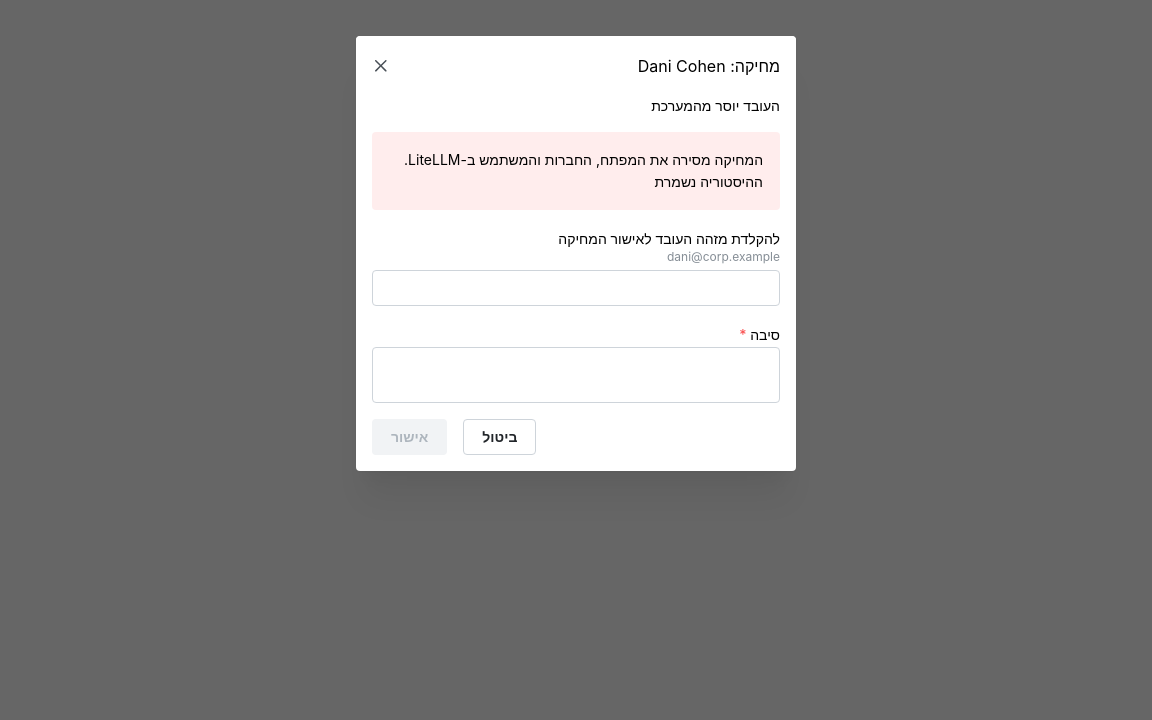
MemberActionDialog › delete confirm disabled until exact upn
This screenshot has width=1152, height=720.
Type "סגירת משתמש" into the text box with test id "action-reason" at (576, 375), box [372,347,780,403]
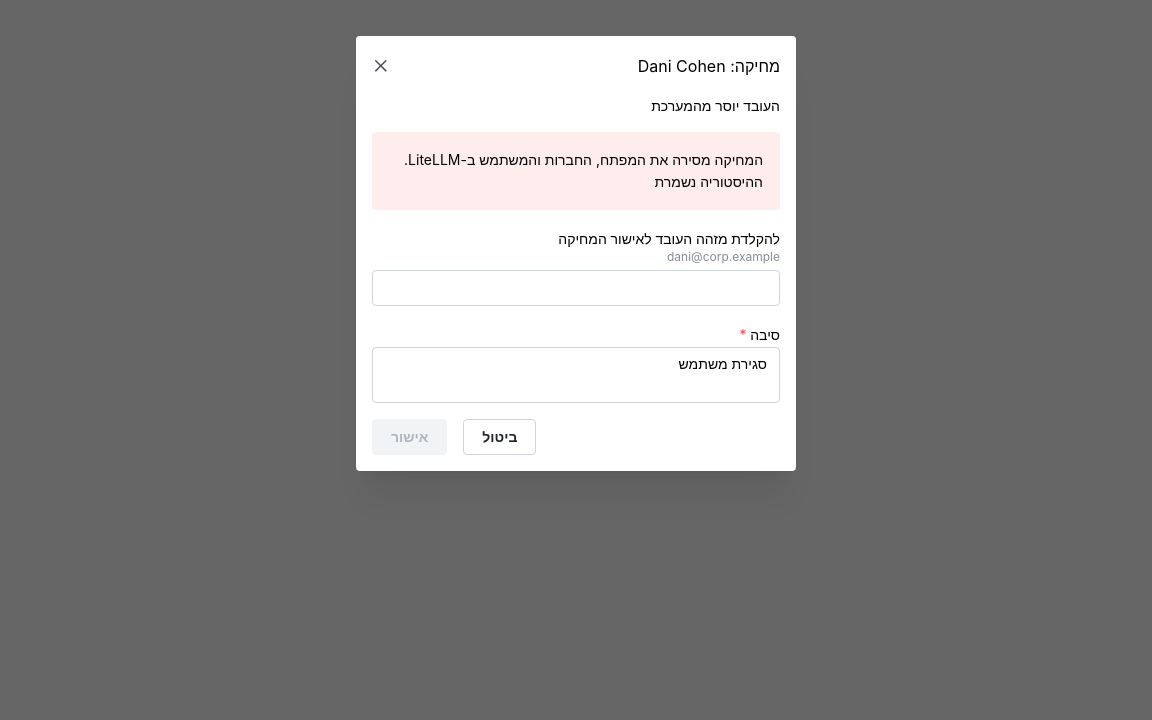
expect the button with test id "confirm-action" is disabled: met, box [372,419,447,455]
Type "dan@corp.example" into the field with test id "confirm-upn" at (576, 288), box [372,270,780,306]
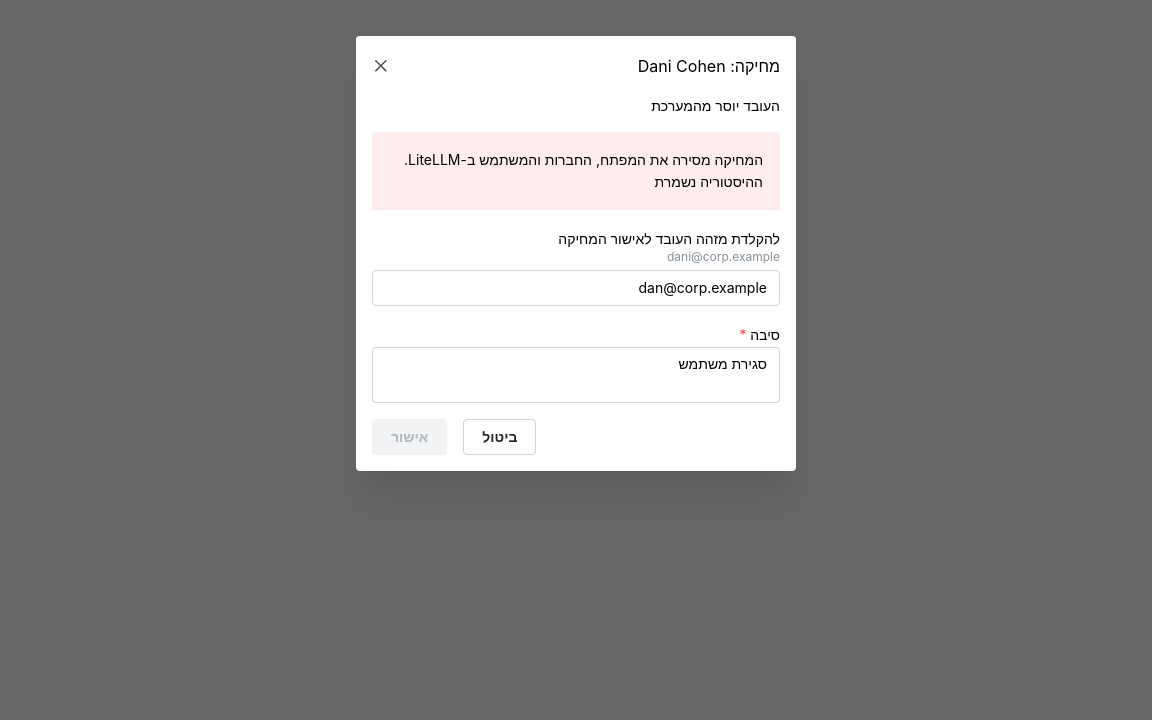
expect the button with test id "confirm-action" is disabled: met, box [372,419,447,455]
Replace the text in the field with test id "confirm-upn" with "DANI@corp.example" at (576, 288), box [372,270,780,306]
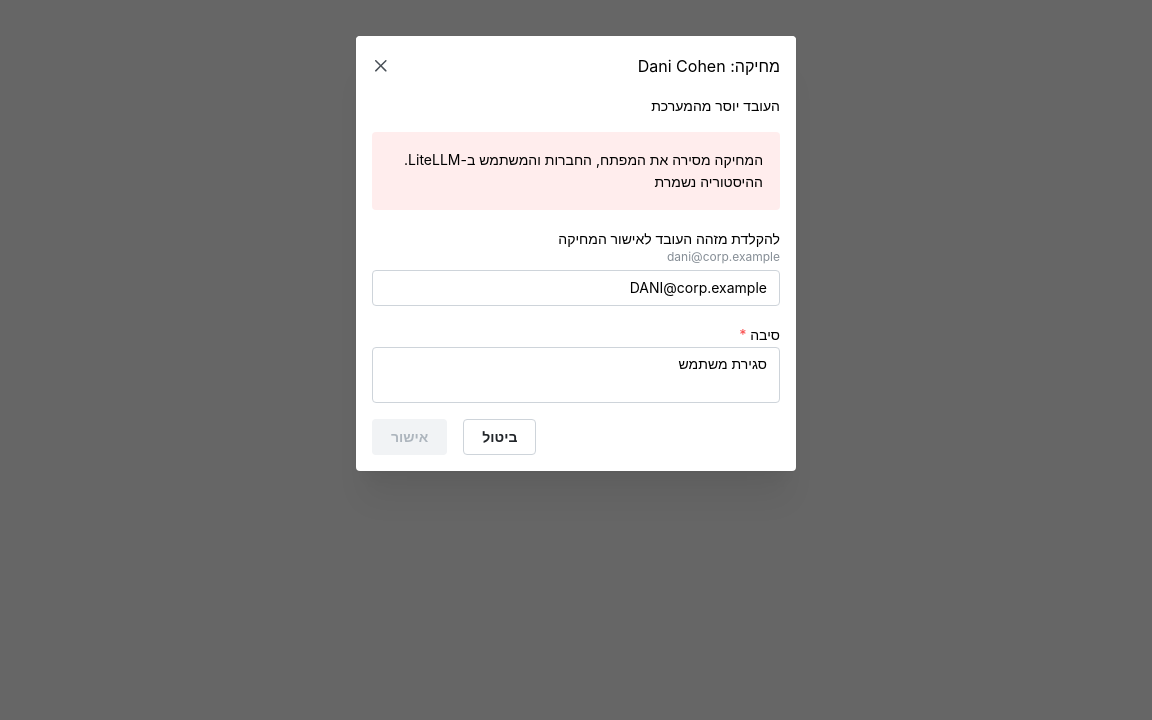
expect the button with test id "confirm-action" is disabled: met, box [372,419,447,455]
Replace the text in the field with test id "confirm-upn" with "dani@corp.example" at (576, 288), box [372,270,780,306]
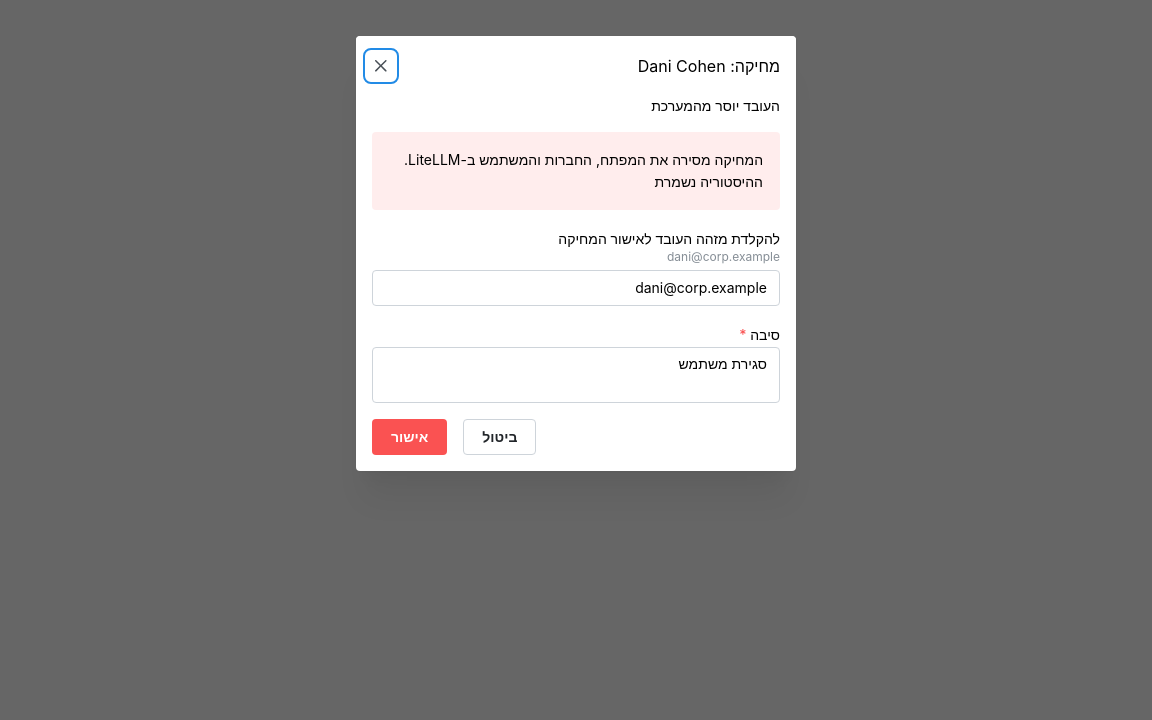
expect the button with test id "confirm-action" is enabled: met, box [372,419,447,455]
